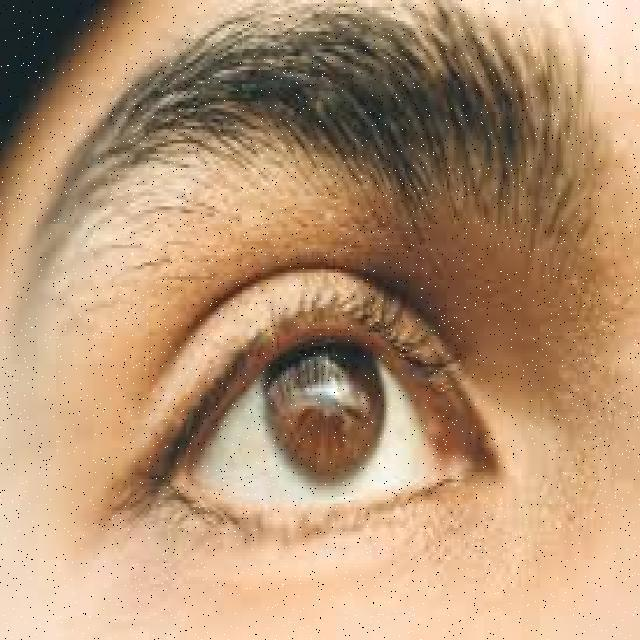Normal: (0, 182, 638, 588)
